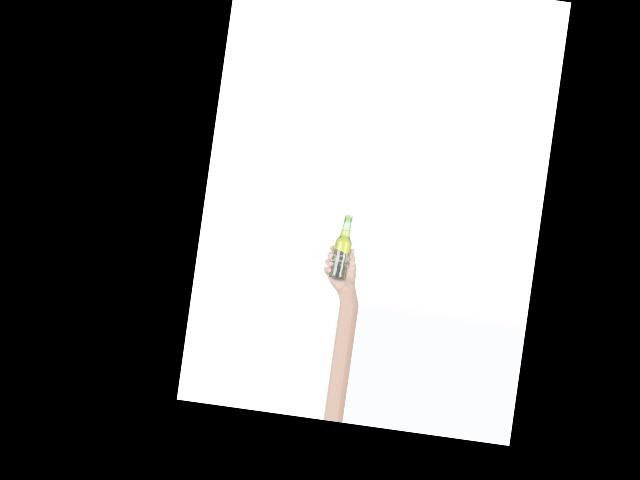beer: (329, 213, 356, 280)
